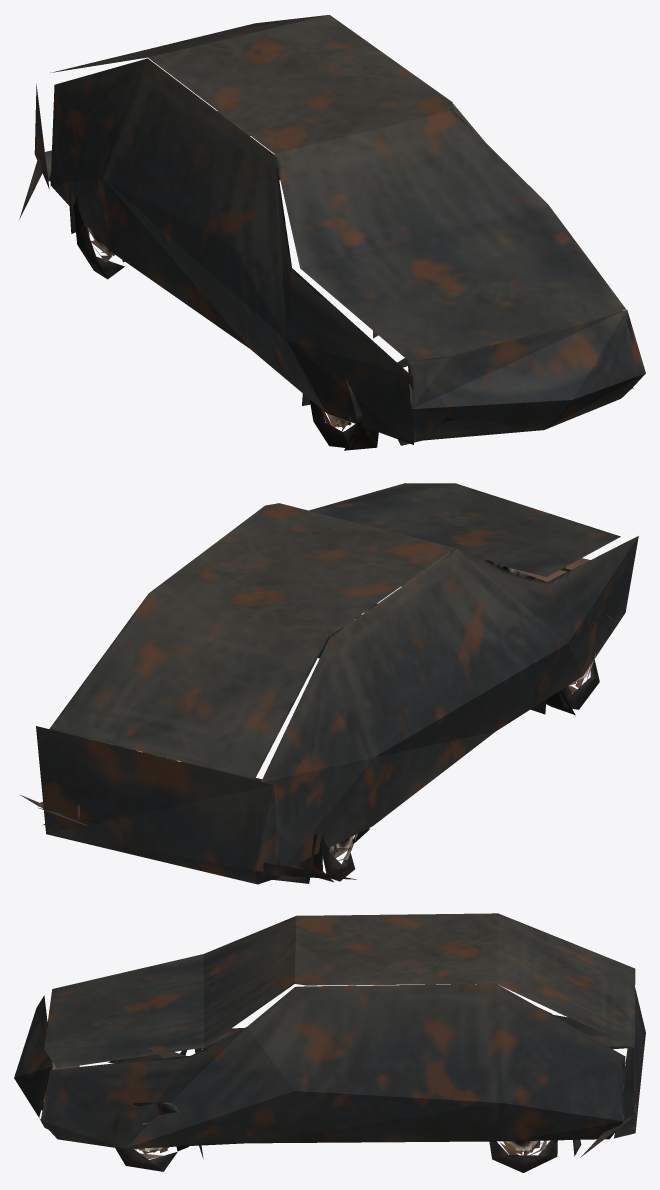
The model's file is prop_covered_car.glb.
3 views of the same model, one above another, from view 1: azimuth 30°, elevation 25°; view 2: azimuth 150°, elevation 25°; view 3: azimuth 270°, elevation 25° (orthographic). The views are drawn at different scales.
Parts seen in each view (by area): view 1: hull; view 2: hull; view 3: hull.
Boxes of the visible parts, x1,y1,x2,y2 form: hull: [19, 15, 645, 450]; hull: [19, 483, 638, 884]; hull: [14, 913, 645, 1172].
Size of the model in its own units: 1 by 0.629 by 2.
1 material, 1 textured.
